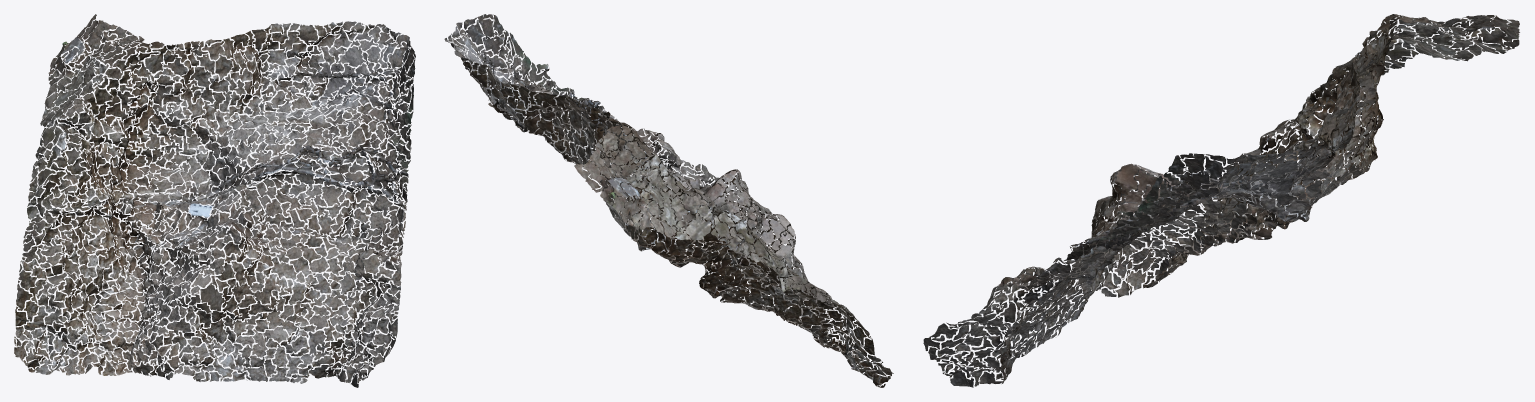
The model's file is gst3.glb.
3 views of the same model, side by side, from view 1: azimuth 30°, elevation 25°; view 2: azimuth 150°, elevation 25°; view 3: azimuth 270°, elevation 25° (orthographic). The views are drawn at different scales.
Bounding box in the file's own units: 20.56 × 12.11 × 19.58.
1 material, 1 textured.
